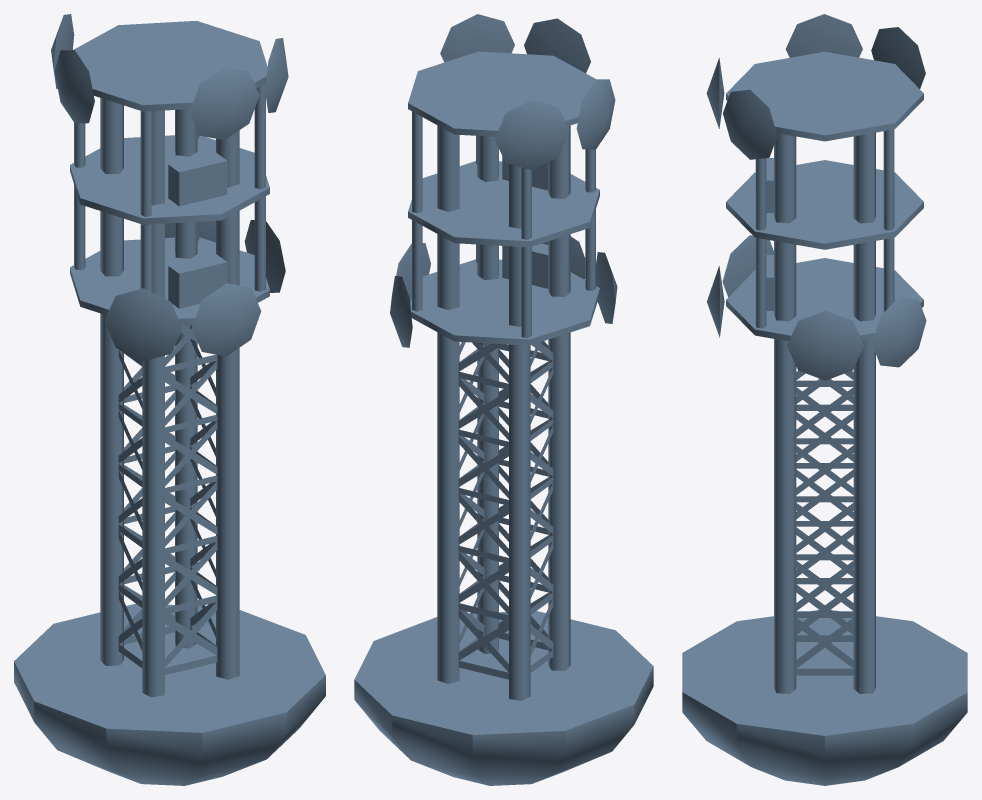
The model's file is antena.fbx.
The picture shows the model from 3 angles, left to right: view 1: azimuth 30°, elevation 25°; view 2: azimuth 150°, elevation 25°; view 3: azimuth 270°, elevation 25°; orthographic projection. The views are drawn at different scales.
Visible parts, largest first — view 1: pCube73; view 2: pCube73; view 3: pCube73.
Part boxes in pixels (left/top/right/bottom): pCube73: left=14, top=14, right=325, bottom=785; pCube73: left=354, top=14, right=653, bottom=785; pCube73: left=682, top=14, right=967, bottom=785.
Bounding box in the file's own units: 21.2 × 55.89 × 20.17.
